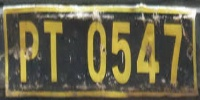T: (40, 17, 69, 84)
